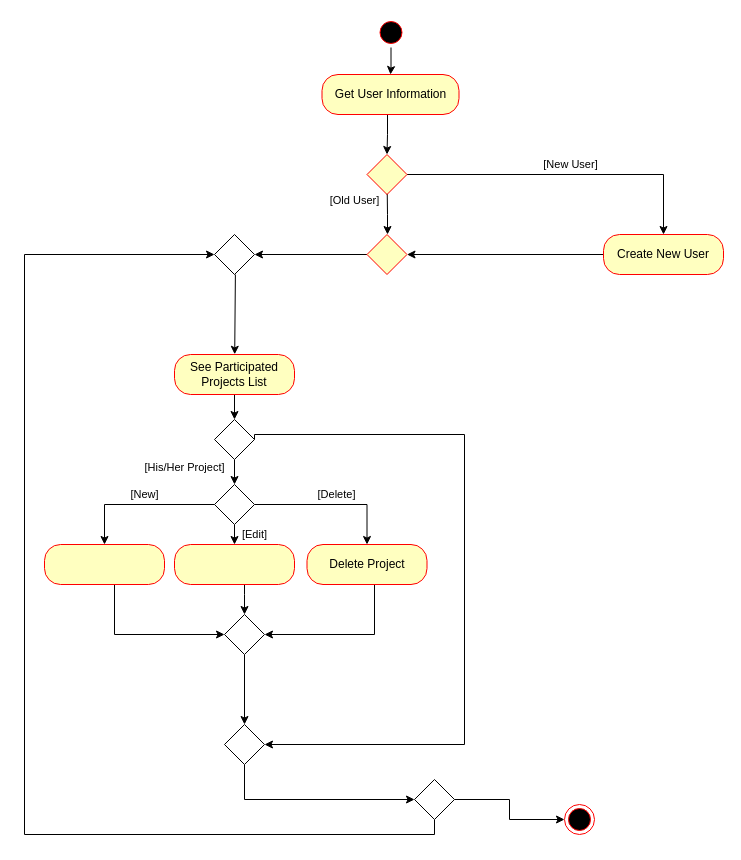
This 741x860 diagram has some shape labels left out. The box of each missing label's shape, as (x1, y1, x2, y2) in pixels:
Edit Project: (174, 544, 294, 584)
New Project: (44, 544, 164, 584)
